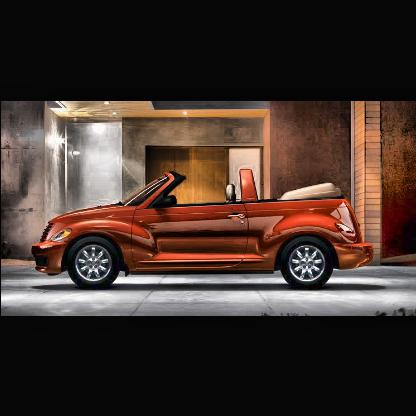Chrysler PT Cruiser Convertible 2008: (21, 161, 387, 303)
